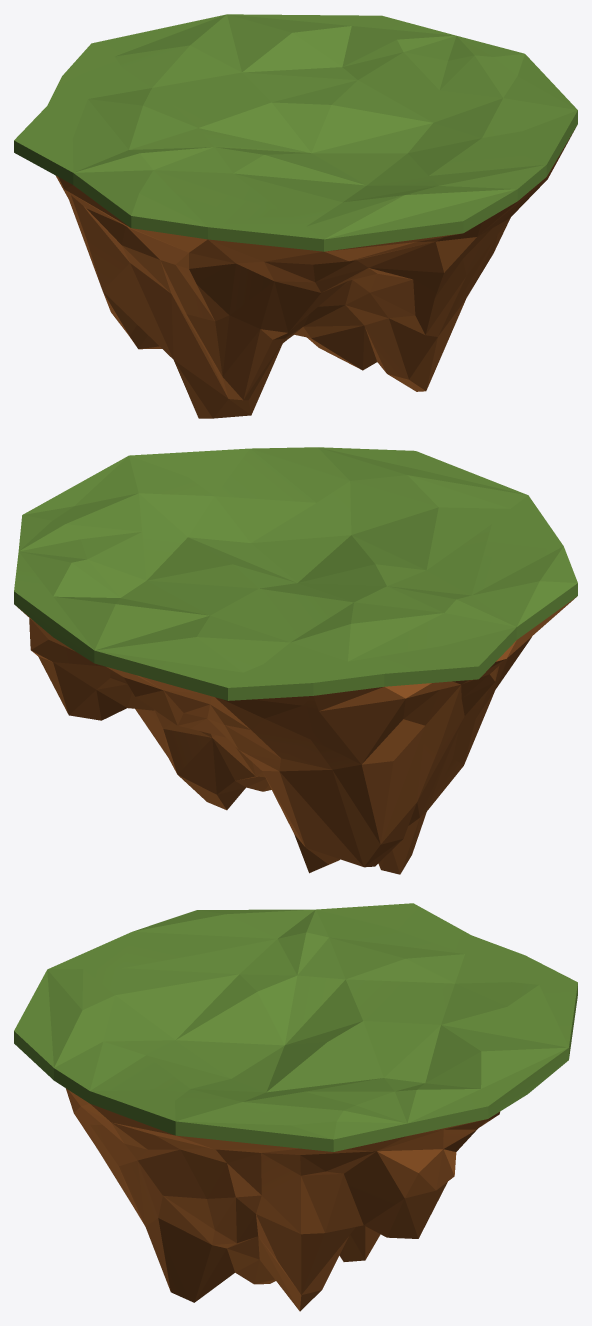
The model's file is land002.gltf.
3 renders of one model, top to bottom at view 1: azimuth 30°, elevation 25°; view 2: azimuth 150°, elevation 25°; view 3: azimuth 270°, elevation 25°, orthographic. The views are drawn at different scales.
Parts seen in each view (by area): view 1: node_land002_-79132; view 2: node_land002_-79132; view 3: node_land002_-79132.
Boxes of the visible parts, x1,y1,x2,y2 form: node_land002_-79132: (14, 14, 577, 418); node_land002_-79132: (14, 447, 577, 874); node_land002_-79132: (14, 903, 577, 1311).
Bounding box in the file's own units: 42.09 × 23.59 × 42.46.
Materials: 1 (1 with a texture image).
